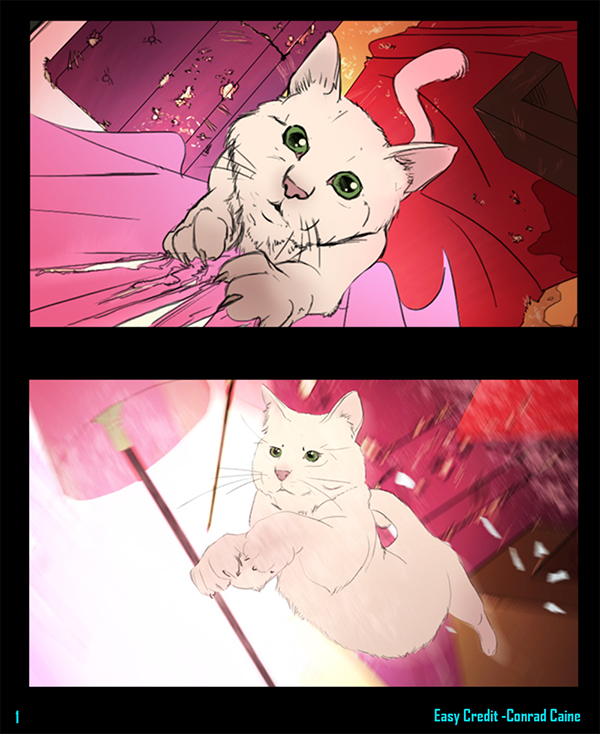cat: (156, 27, 484, 329), (183, 388, 512, 668)
